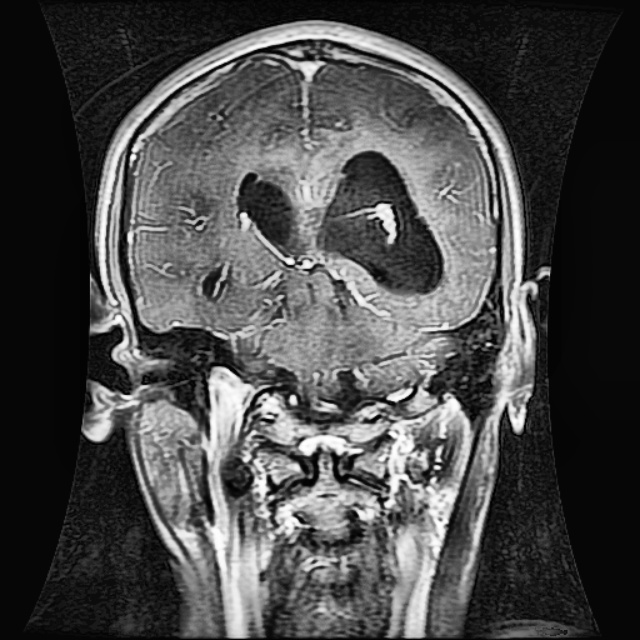Meningioma: (234, 145, 445, 303)
